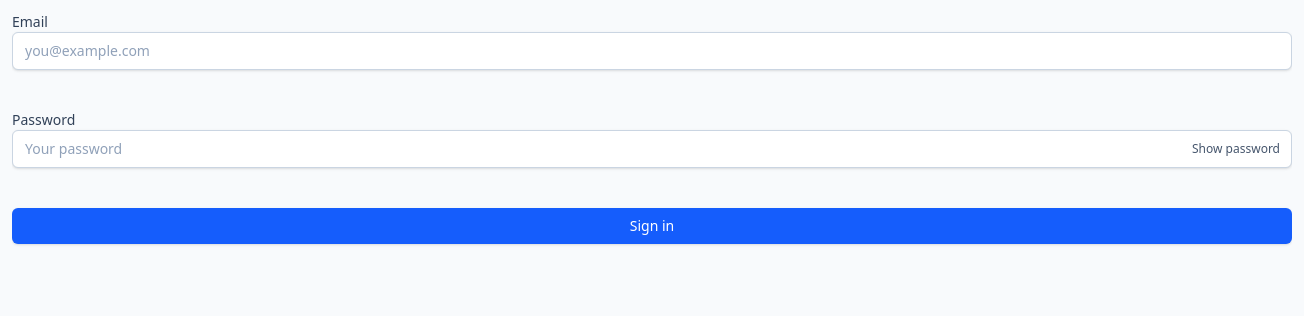
it: LoginForm › error handling › shows invalid_credentials error on 401 response
Type "valid@example.com" into the field labelled "Email" at {"x": 652, "y": 51}, box [12, 32, 1292, 70]
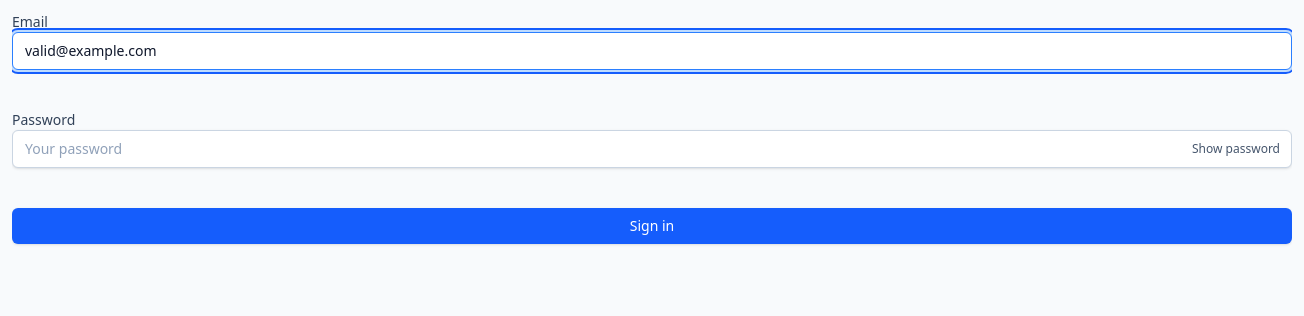
Type "password123" into the password field labelled "Password" at {"x": 652, "y": 149}, box [12, 130, 1292, 168]
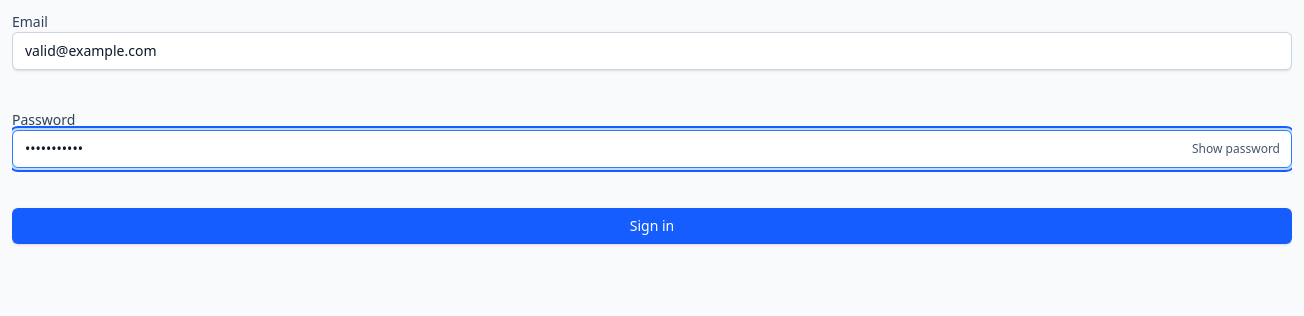
Click the button "Sign in" at {"x": 652, "y": 226}, box [12, 208, 1292, 244]
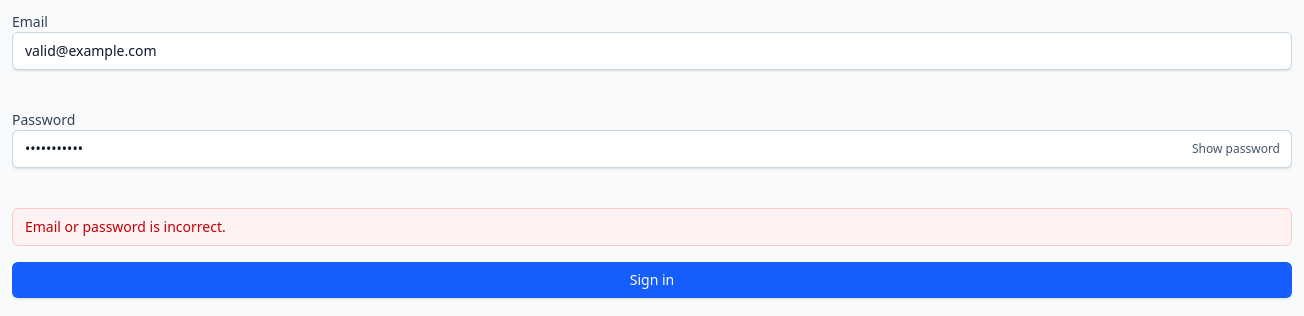
Result: the text "Email or password is incorrect." is shown at [12, 208, 1292, 246]
